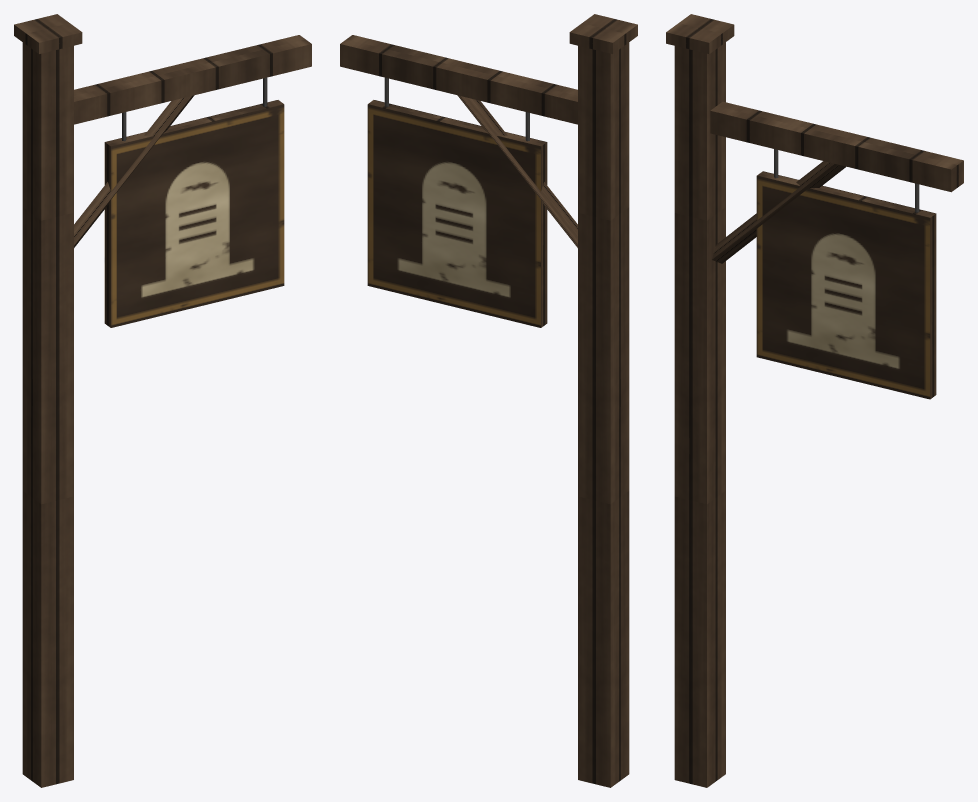
Rendered from Sign_Service_cimetiere_LOD1.gltf.
3 renders of one model, left to right at view 1: azimuth 30°, elevation 25°; view 2: azimuth 150°, elevation 25°; view 3: azimuth 330°, elevation 25°, orthographic.
Parts seen in each view (by area): view 1: Sign_Service_cimetiere_LOD1; view 2: Sign_Service_cimetiere_LOD1; view 3: Sign_Service_cimetiere_LOD1.
Boxes of the visible parts, bbox=[...] form: Sign_Service_cimetiere_LOD1: bbox=[14, 14, 311, 787]; Sign_Service_cimetiere_LOD1: bbox=[340, 14, 637, 787]; Sign_Service_cimetiere_LOD1: bbox=[666, 14, 963, 787].
Bounding box in the file's own units: 1.03 × 2.64 × 0.16.
Materials: 3 (3 with a texture image).
